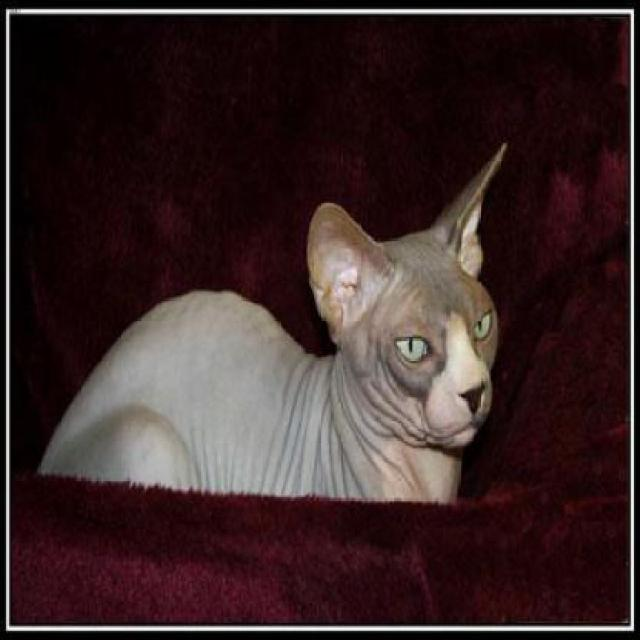cat: (36, 138, 504, 504)
